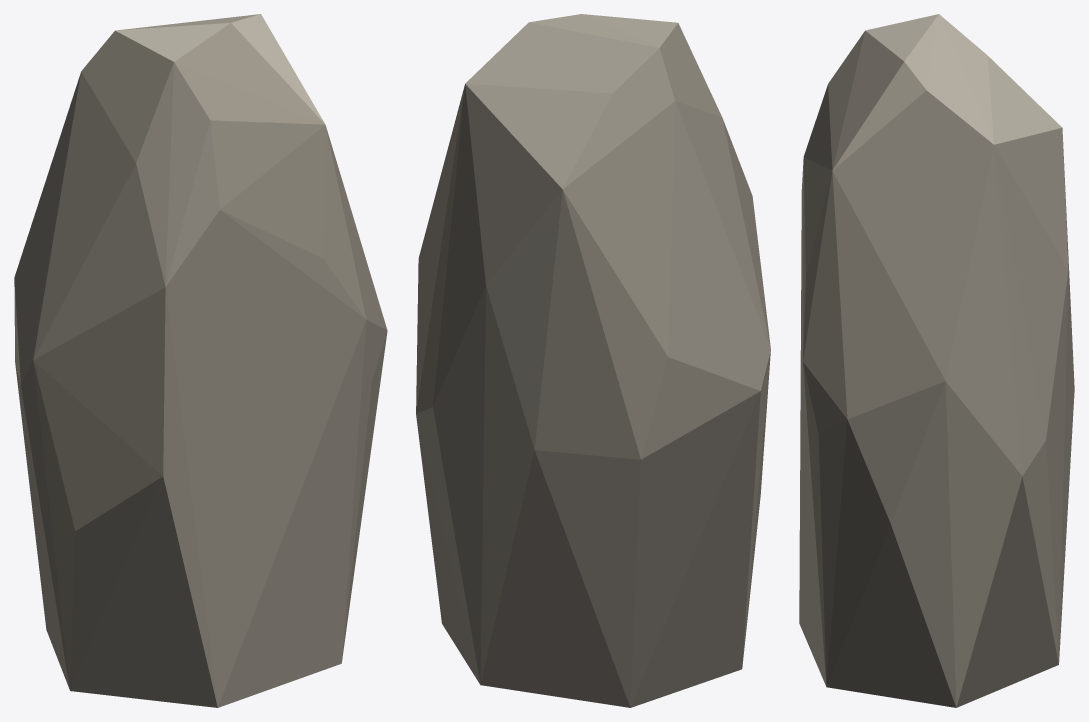
Rendered from rock_spire.glb.
The picture shows the model from 3 angles, left to right: view 1: azimuth 30°, elevation 25°; view 2: azimuth 150°, elevation 25°; view 3: azimuth 270°, elevation 25°; orthographic projection. The views are drawn at different scales.
Visible parts, largest first — view 1: LOD0; view 2: LOD0; view 3: LOD0.
Part boxes in pixels (left/top/right/bottom): LOD0: left=14, top=14, right=387, bottom=707; LOD0: left=416, top=14, right=770, bottom=707; LOD0: left=799, top=14, right=1074, bottom=707.
Bounding box in the file's own units: 1.95 × 3.63 × 1.45.
1 material, 1 textured.
